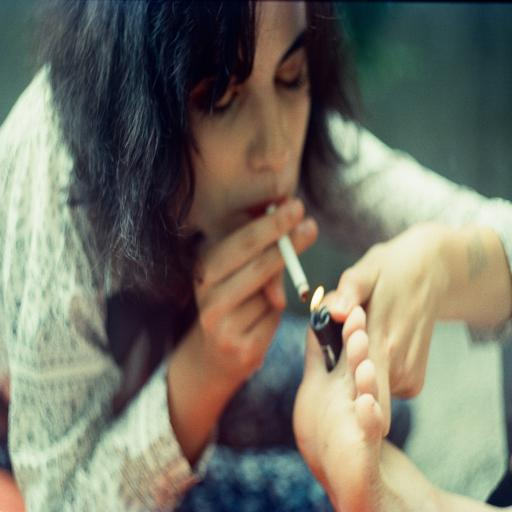lighter: (294, 261, 349, 370)
